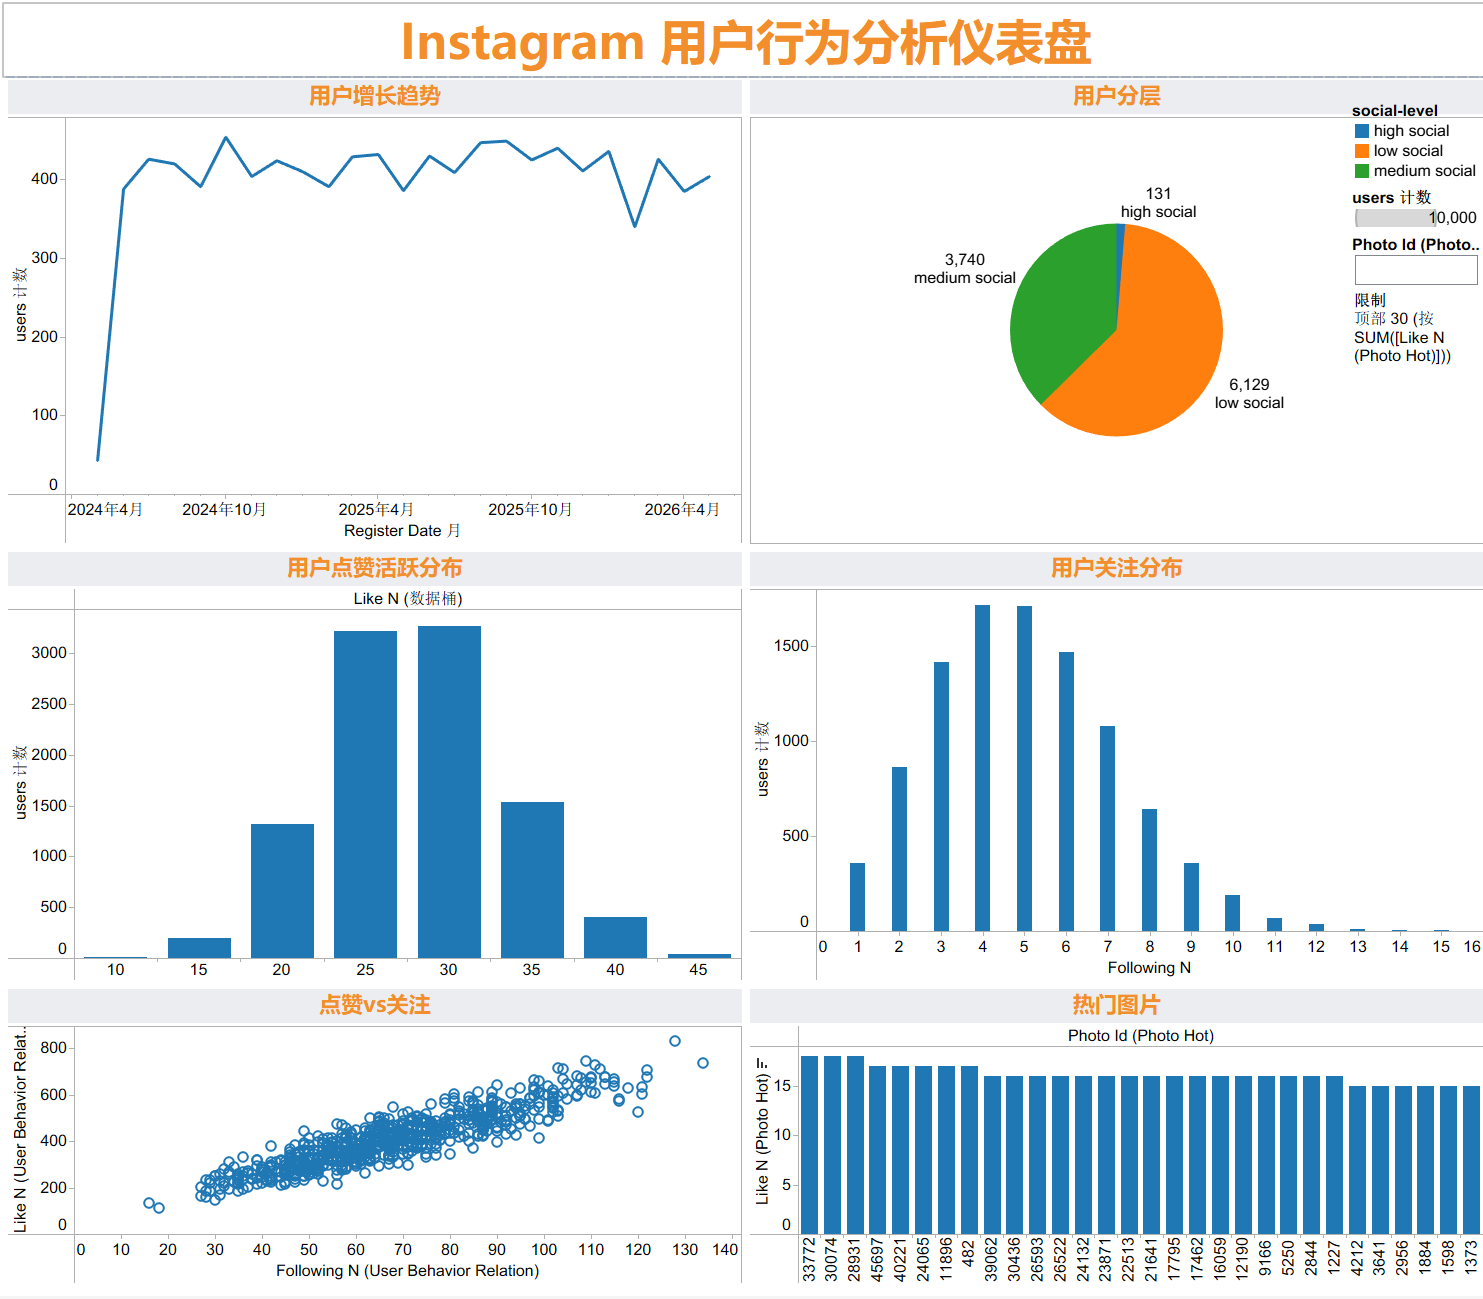

The dashboard page shown, as its layout file describes it:
{"tool":"tableau","page":{"name":"仪表板 1","canvas":[1500,1600],"ordinal":0},"visuals":[{"type":"title","box":[8,8,1484,72]},{"type":"worksheet","title":"用户增长趋势","mark":"Line","rows":["users_809BB3EC750D4E019D4296575A7CB024"],"cols":["register_date"],"box":[8,80,741.8,589]},{"type":"worksheet","title":"用户分层","mark":"Pie","box":[749.8,80,742.2,589]},{"type":"legend","title":"用户分层","param":"[federated.0enxp471j9d53t1dnly7814ubtzn].[none:Calculation_15277721557348353:nk]","box":[1352,125,137,87]},{"type":"legend","title":"用户分层","param":"[federated.0enxp471j9d53t1dnly7814ubtzn].[__tableau_internal_object_id__].[cnt:u","box":[1352,212,137,47]},{"type":"filter","title":"热门图片","param":"[federated.0enxp471j9d53t1dnly7814ubtzn].[none:photo_id (photo_hot):ok]","box":[1352,259,137,142]},{"type":"worksheet","title":"用户点赞活跃分布","mark":"Bar","rows":["users_809BB3EC750D4E019D4296575A7CB024"],"cols":["Like N (数据桶)"],"box":[8,669,741.8,545]},{"type":"worksheet","title":"用户关注分布","mark":"Bar","rows":["users_809BB3EC750D4E019D4296575A7CB024"],"cols":["following_n"],"box":[749.8,669,742.2,545]},{"type":"worksheet","title":"点赞vs关注","mark":"Automatic","rows":["like_n (user_behavior_relation)"],"cols":["following_n (user_behavior_relation)"],"box":[8,1214,741.8,378]},{"type":"worksheet","title":"热门图片","mark":"Automatic","rows":["like_n (photo_hot)"],"cols":["photo_id (photo_hot)"],"box":[749.8,1214,742.2,378]}]}

Visuals, with their boxes on the page's 1500x1600 design canvas (x1, y1, x2, y2). These are canvas units, not pixel positions in the 1483x1299 screenshot, which may show the page scaled, cropped or inside an application window:
title: box=[8, 8, 1492, 80]
"用户增长趋势" worksheet (Line marks): box=[8, 80, 750, 669]
"用户分层" worksheet (Pie marks): box=[750, 80, 1492, 669]
"用户分层" legend: box=[1352, 125, 1489, 212]
"用户分层" legend: box=[1352, 212, 1489, 259]
"热门图片" filter: box=[1352, 259, 1489, 401]
"用户点赞活跃分布" worksheet (Bar marks): box=[8, 669, 750, 1214]
"用户关注分布" worksheet (Bar marks): box=[750, 669, 1492, 1214]
"点赞vs关注" worksheet: box=[8, 1214, 750, 1592]
"热门图片" worksheet: box=[750, 1214, 1492, 1592]
